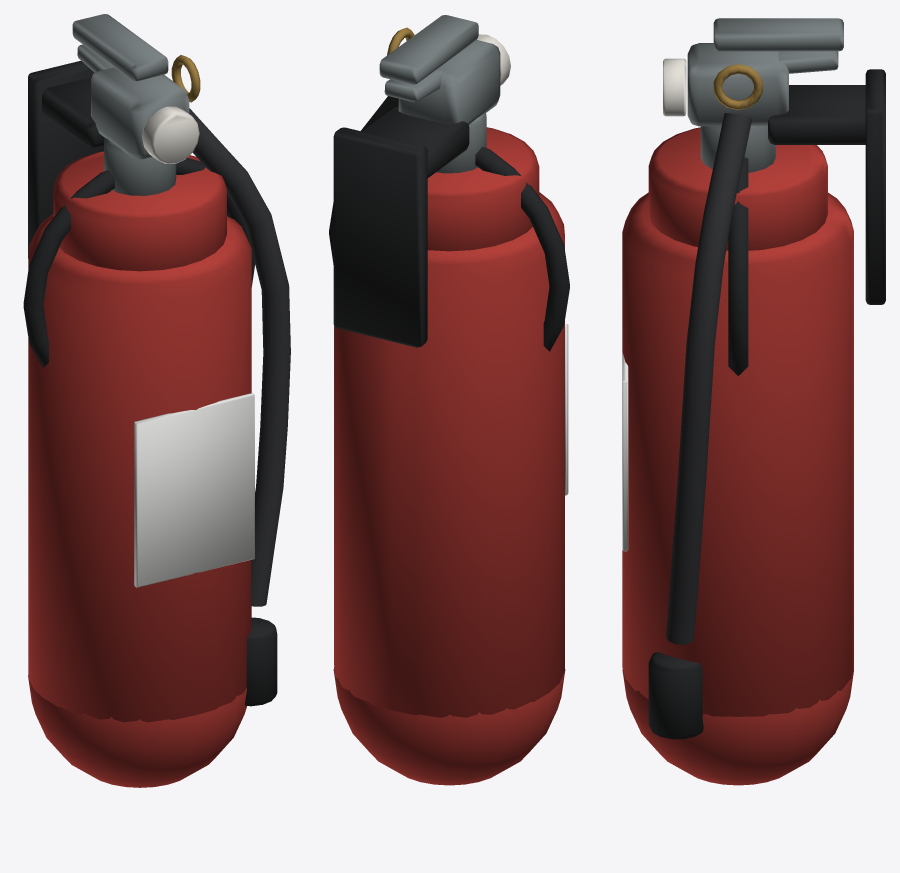
The model's file is asset_091_fire_extinguisher.glb.
The picture shows the model from 3 angles, left to right: view 1: azimuth 30°, elevation 25°; view 2: azimuth 150°, elevation 25°; view 3: azimuth 270°, elevation 25°; orthographic projection. The views are drawn at different scales.
Parts seen in each view (by area): view 1: MESH_ExtinguisherShell, MESH_ExtinguisherLabel, MESH_ExtinguisherShoulder, MESH_ExtinguisherHose, MESH_ExtinguisherBase, MESH_BracketPlate, MESH_ValveBody, MESH_BracketStrap, MESH_ValveCarryHandle, MESH_BracketArm, MESH_ExtinguisherNeck, MESH_ExtinguisherHorn (+2 smaller); view 2: MESH_ExtinguisherShell, MESH_BracketPlate, MESH_ExtinguisherBase, MESH_ExtinguisherShoulder, MESH_ValveBody, MESH_BracketStrap, MESH_ValveCarryHandle, MESH_BracketArm, MESH_ExtinguisherNeck, MESH_ValveSqueezeLever, MESH_ExtinguisherLabel, MESH_PressureGauge; view 3: MESH_ExtinguisherShell, MESH_ExtinguisherHose, MESH_ExtinguisherShoulder, MESH_ExtinguisherBase, MESH_ValveBody, MESH_BracketArm, MESH_BracketPlate, MESH_ValveCarryHandle, MESH_ExtinguisherHorn, MESH_BracketStrap, MESH_ExtinguisherNeck, MESH_PressureGauge (+3 smaller).
Part boxes in pixels (x1,y1,x2,y2): MESH_ExtinguisherShell: (28,214,251,722); MESH_ExtinguisherLabel: (134,393,254,587); MESH_ExtinguisherShoulder: (53,151,226,271); MESH_ExtinguisherHose: (189,108,290,606); MESH_ExtinguisherBase: (28,675,246,787); MESH_BracketPlate: (28,60,103,258); MESH_ValveBody: (91,67,189,159); MESH_BracketStrap: (23,157,255,367); MESH_ValveCarryHandle: (72,14,168,81); MESH_BracketArm: (42,77,104,147); MESH_ExtinguisherNeck: (104,138,176,195); MESH_ExtinguisherHorn: (245,617,277,706); MESH_ExtinguisherShell: (334,192,564,717); MESH_BracketPlate: (333,127,427,347); MESH_ExtinguisherBase: (333,667,565,785); MESH_ExtinguisherShoulder: (427,127,539,251); MESH_ValveBody: (398,40,500,124); MESH_BracketStrap: (329,147,569,351); MESH_ValveCarryHandle: (379,15,478,84); MESH_BracketArm: (362,106,469,177); MESH_ExtinguisherNeck: (436,113,486,173); MESH_ValveSqueezeLever: (384,70,443,102); MESH_ExtinguisherLabel: (565,323,568,495); MESH_PressureGauge: (477,34,510,85); MESH_ExtinguisherShell: (622,192,853,716); MESH_ExtinguisherHose: (666,113,751,644); MESH_ExtinguisherShoulder: (648,127,827,250); MESH_ExtinguisherBase: (622,669,853,785); MESH_ValveBody: (687,43,788,126); MESH_BracketArm: (768,85,865,144); MESH_BracketPlate: (865,69,885,304); MESH_ValveCarryHandle: (713,18,843,51); MESH_ExtinguisherHorn: (648,652,703,739); MESH_BracketStrap: (728,157,748,375); MESH_ExtinguisherNeck: (700,125,775,172); MESH_PressureGauge: (663,58,686,116).
Bounding box in the file's own units: 0.2024 × 0.593 × 0.192.
